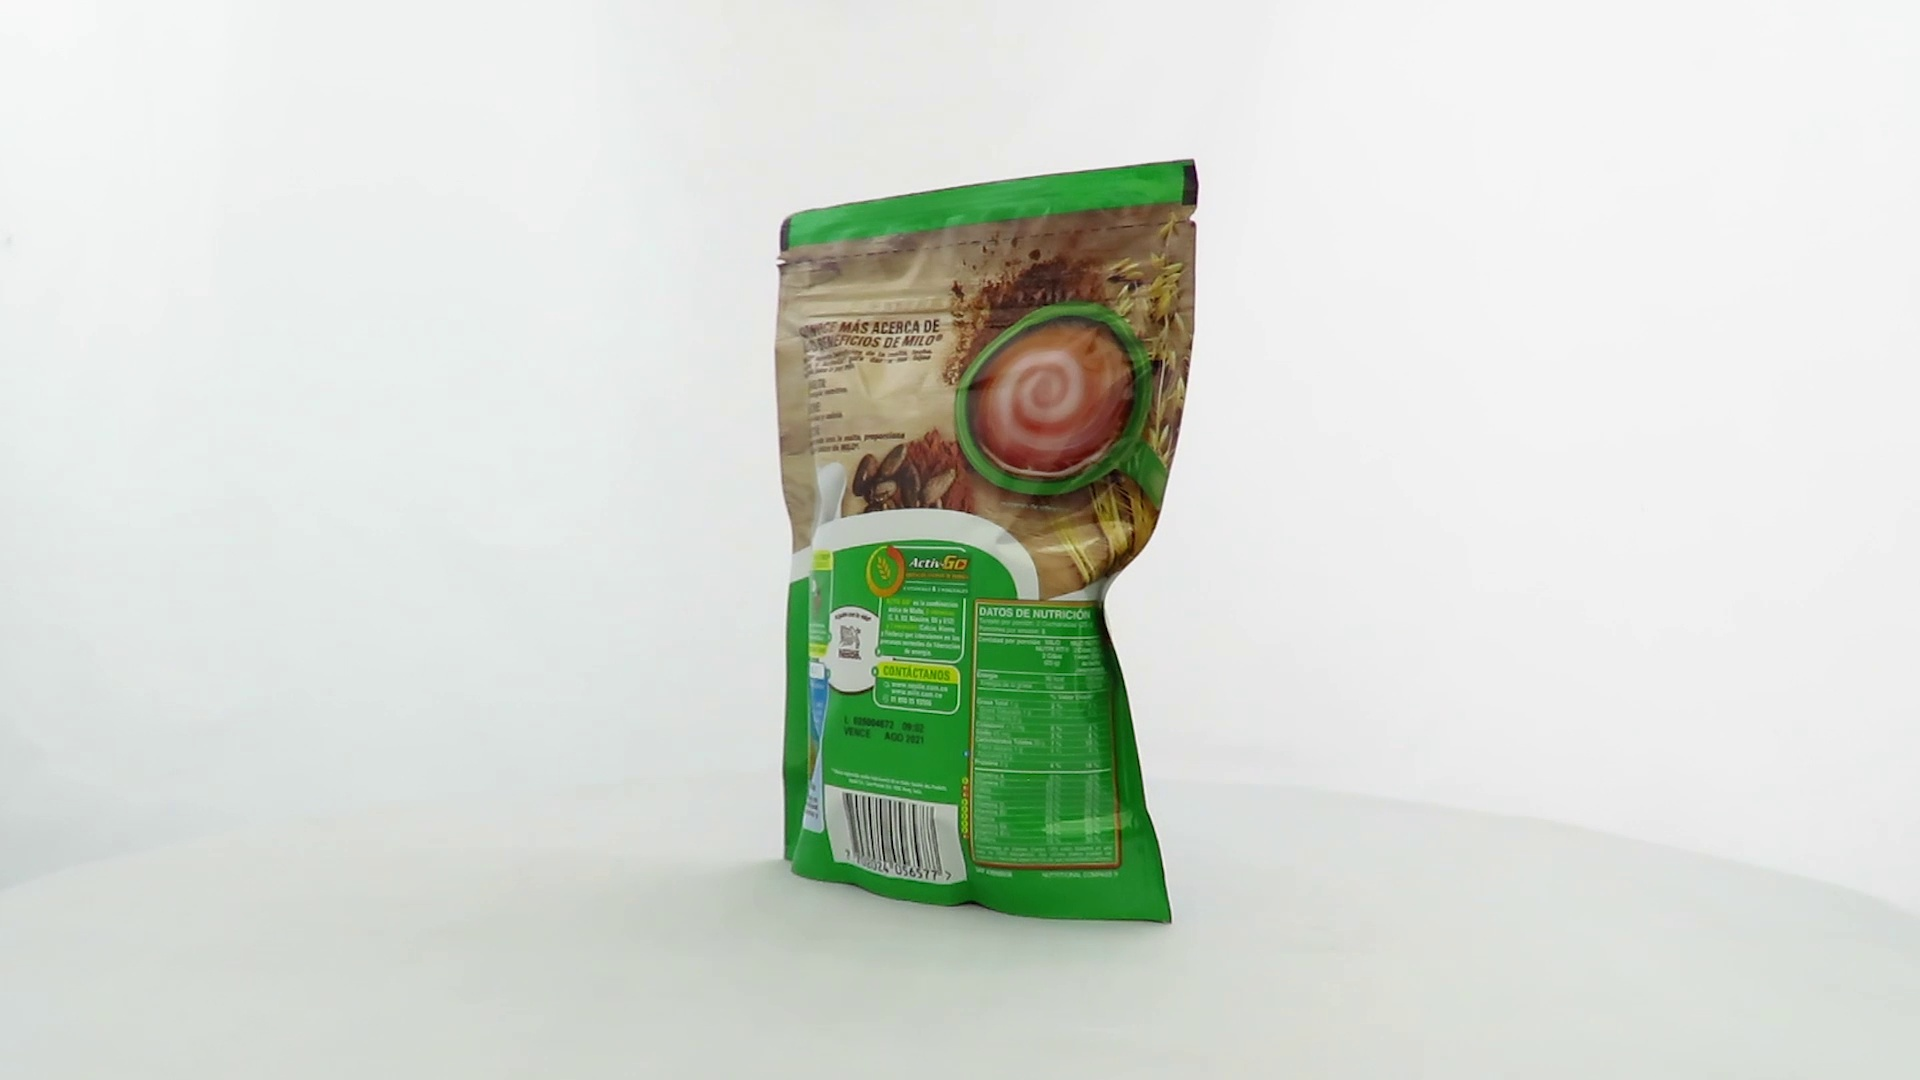COL0170205DYP20000: (769, 154, 1205, 931)
